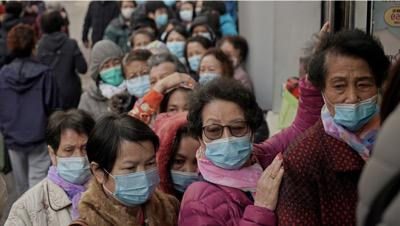mask_weared_incorrect: (324, 71, 380, 129)
with_mask: (203, 114, 250, 171), (109, 153, 159, 205), (55, 140, 91, 185), (170, 149, 199, 192), (125, 67, 150, 99), (98, 60, 124, 87), (196, 65, 222, 87), (166, 35, 186, 57), (186, 48, 204, 72), (152, 11, 168, 26), (178, 8, 193, 22), (119, 6, 134, 19)
